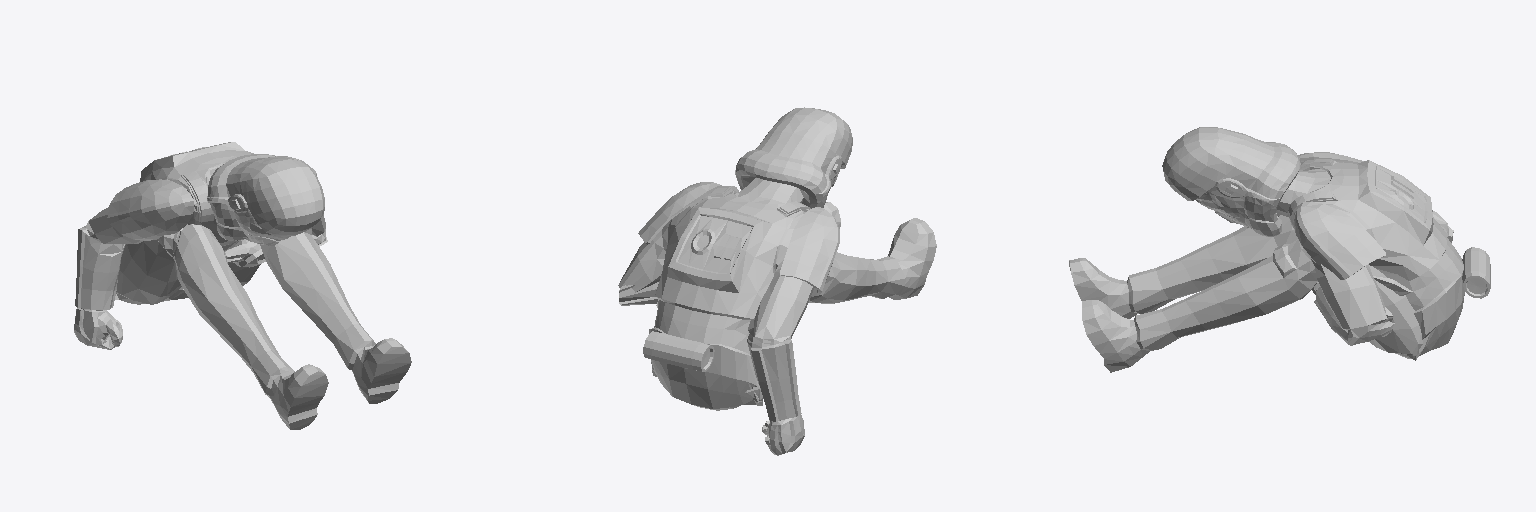
File: Move_000264.obj
The picture shows the model from 3 angles: view 1: azimuth 30°, elevation 25°; view 2: azimuth 150°, elevation 25°; view 3: azimuth 270°, elevation 25°; orthographic projection.
Bounding box in the file's own units: 1.37 × 1.48 × 2.36.